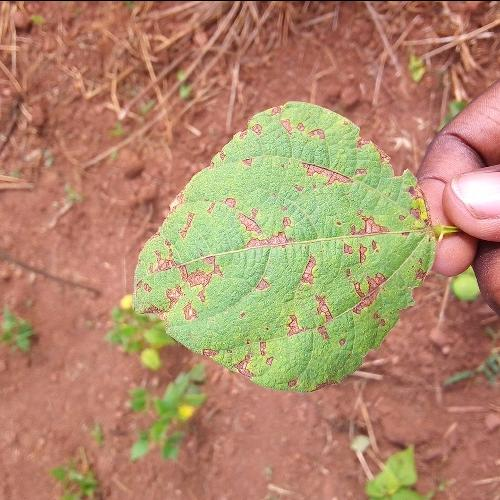hawar: (208, 181, 390, 336), (144, 196, 204, 322), (252, 112, 339, 150), (224, 337, 288, 380), (352, 124, 398, 180)
